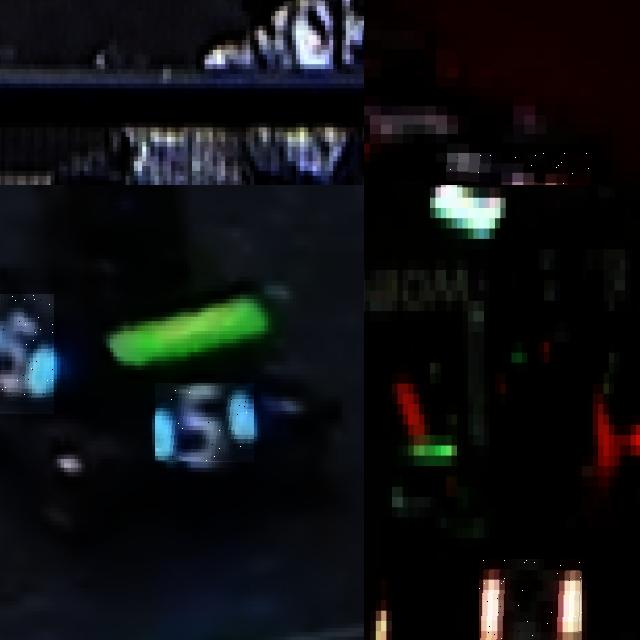B5: (155, 384, 254, 464), (0, 294, 53, 414)
R4: (436, 153, 590, 185)
Rs: (479, 559, 582, 640)
